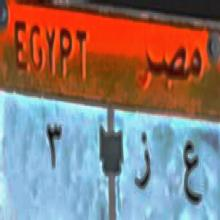3: (43, 116, 65, 182)
ain: (180, 130, 204, 209)
zay: (131, 123, 152, 202)
